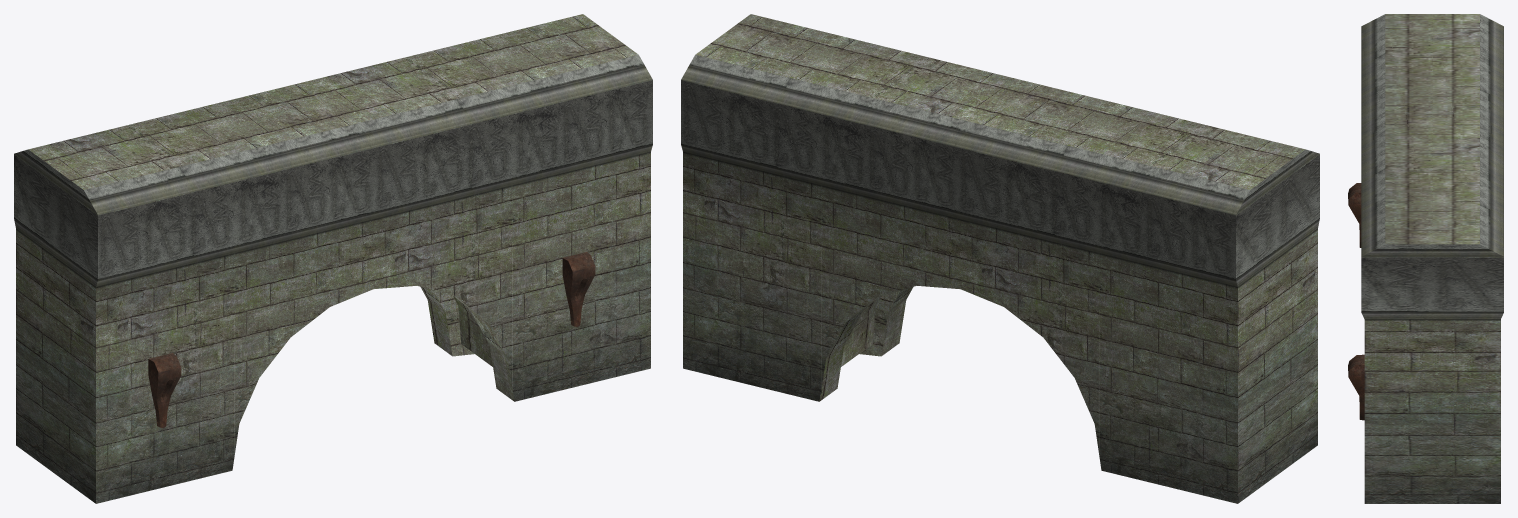
The model's file is OrnatedArch.fbx.
3 views of the same model, side by side, from view 1: azimuth 30°, elevation 25°; view 2: azimuth 150°, elevation 25°; view 3: azimuth 270°, elevation 25° (orthographic). The views are drawn at different scales.
Parts seen in each view (by area): view 1: Mesh Object; view 2: Mesh Object; view 3: Mesh Object.
Part boxes in pixels (left/top/right/bottom): Mesh Object: left=14, top=14, right=652, bottom=503; Mesh Object: left=681, top=14, right=1319, bottom=503; Mesh Object: left=1348, top=14, right=1503, bottom=503.
Size of the model in its own units: 4 by 2.1 by 1.14.
